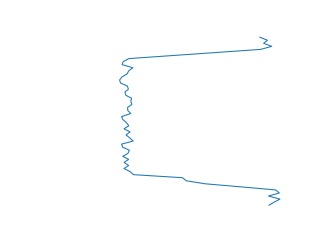distributaryChannelFill: (114, 36, 286, 205)
